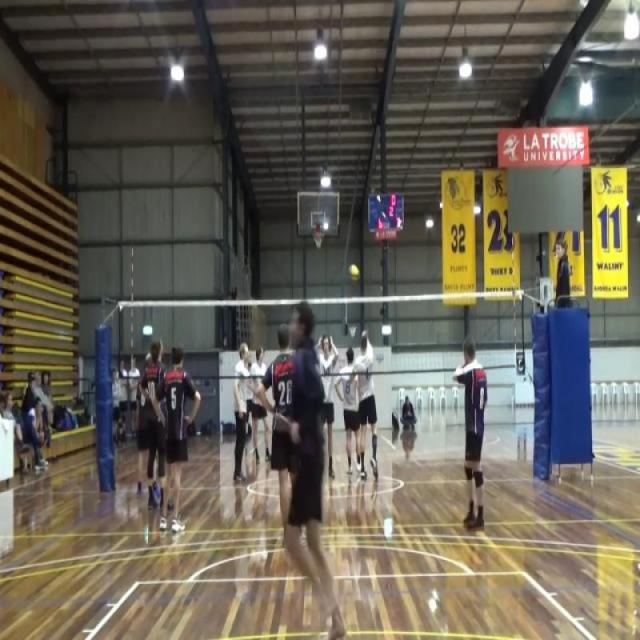volleyball: (348, 264, 361, 282)
